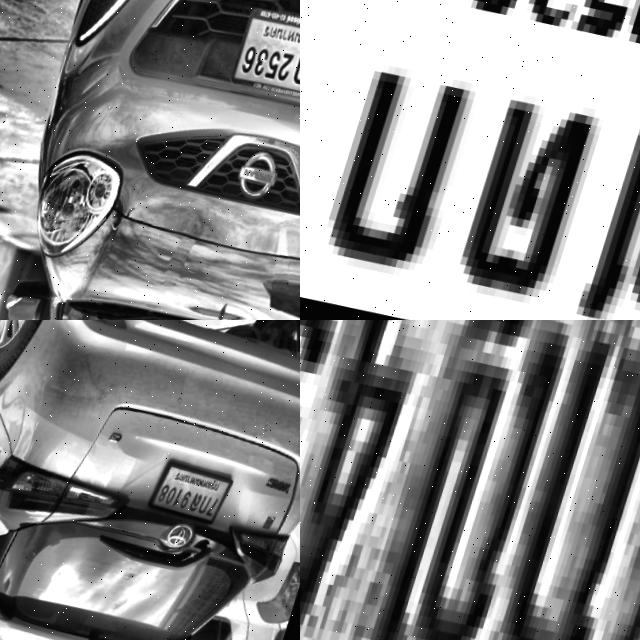license-plate: (300, 0, 640, 320), (300, 320, 640, 640), (221, 0, 300, 122), (147, 453, 243, 538)
